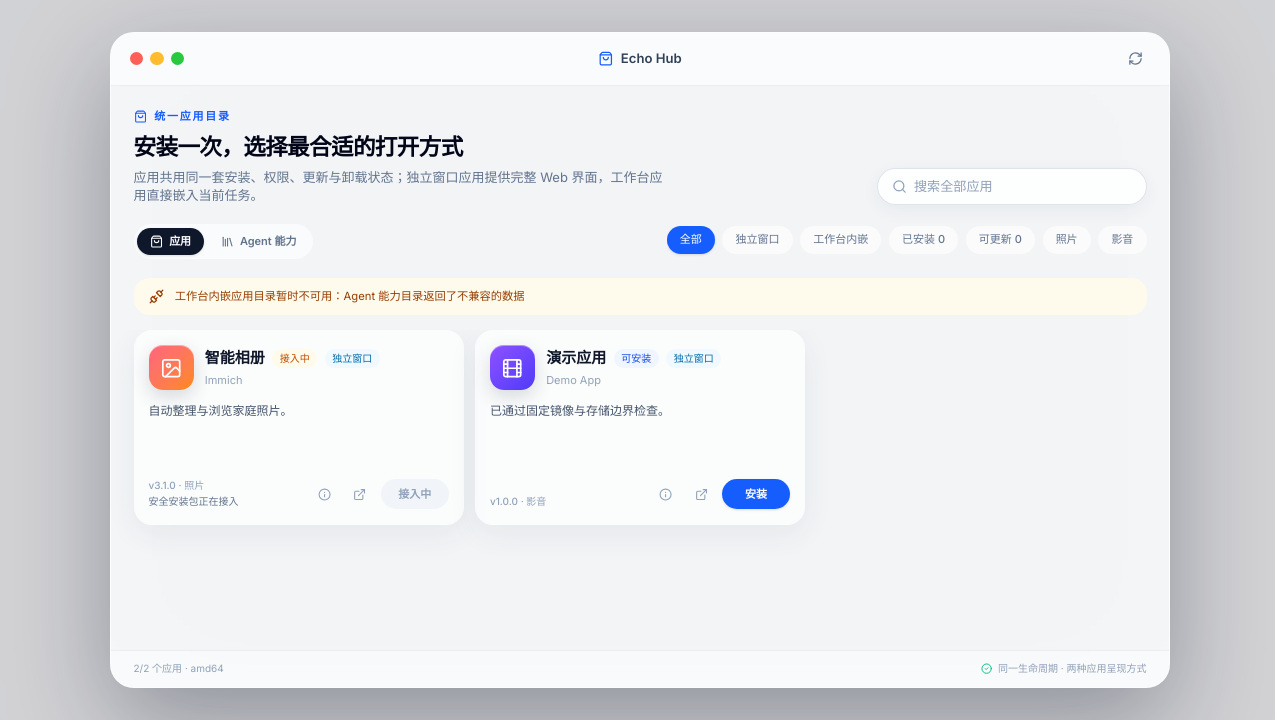
it: Echo Hub panel › shows truthful integration state and filters the featured catalog
Expected: the heading "智能相册" is shown, 205,347 -> 265,370
Expected: the text "接入中" is shown 2 times, 272,349 -> 317,368; 381,479 -> 449,509
Click the button "照片": [1067, 240] box 1042,226 -> 1091,254
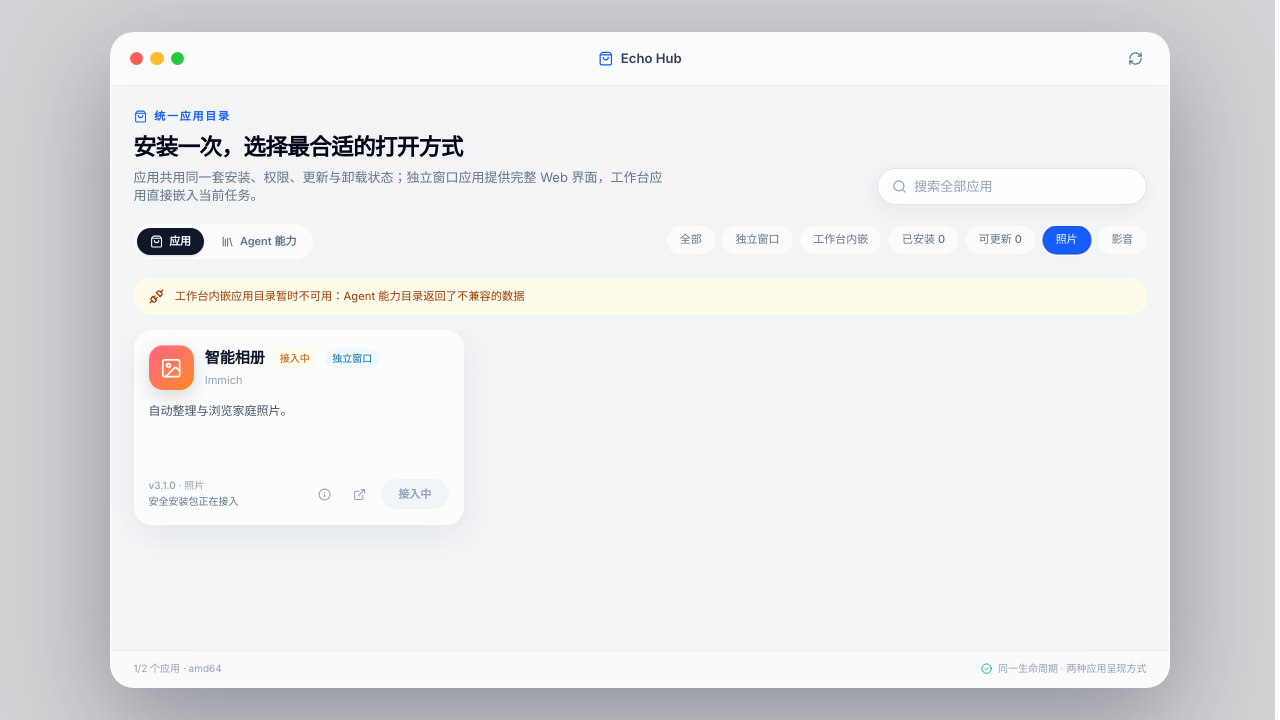
Expected: the heading "智能相册" is shown, 205,347 -> 265,370
Expected: the heading "演示应用" is gone
In the field named "搜索 Hub 应用": [1023, 186] box 914,177 -> 1132,196, type "不存在"
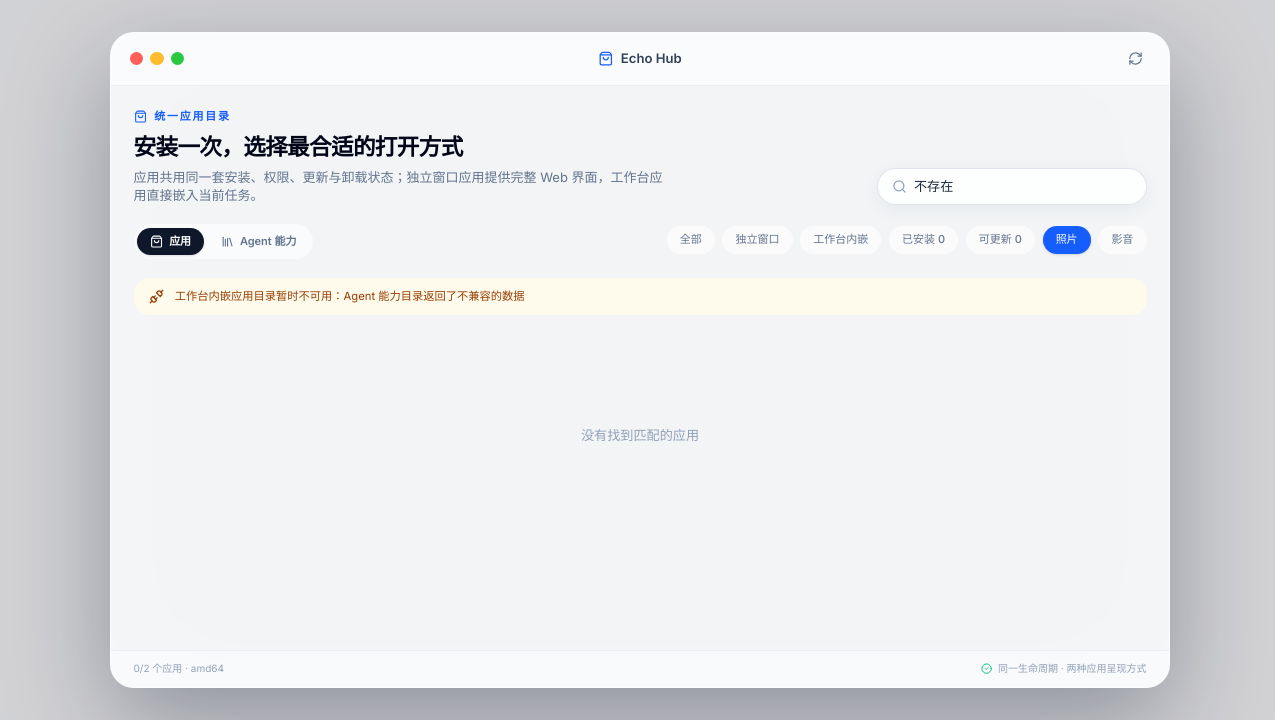
Expected: the text "没有找到匹配的应用" is shown, 581,427 -> 699,443
